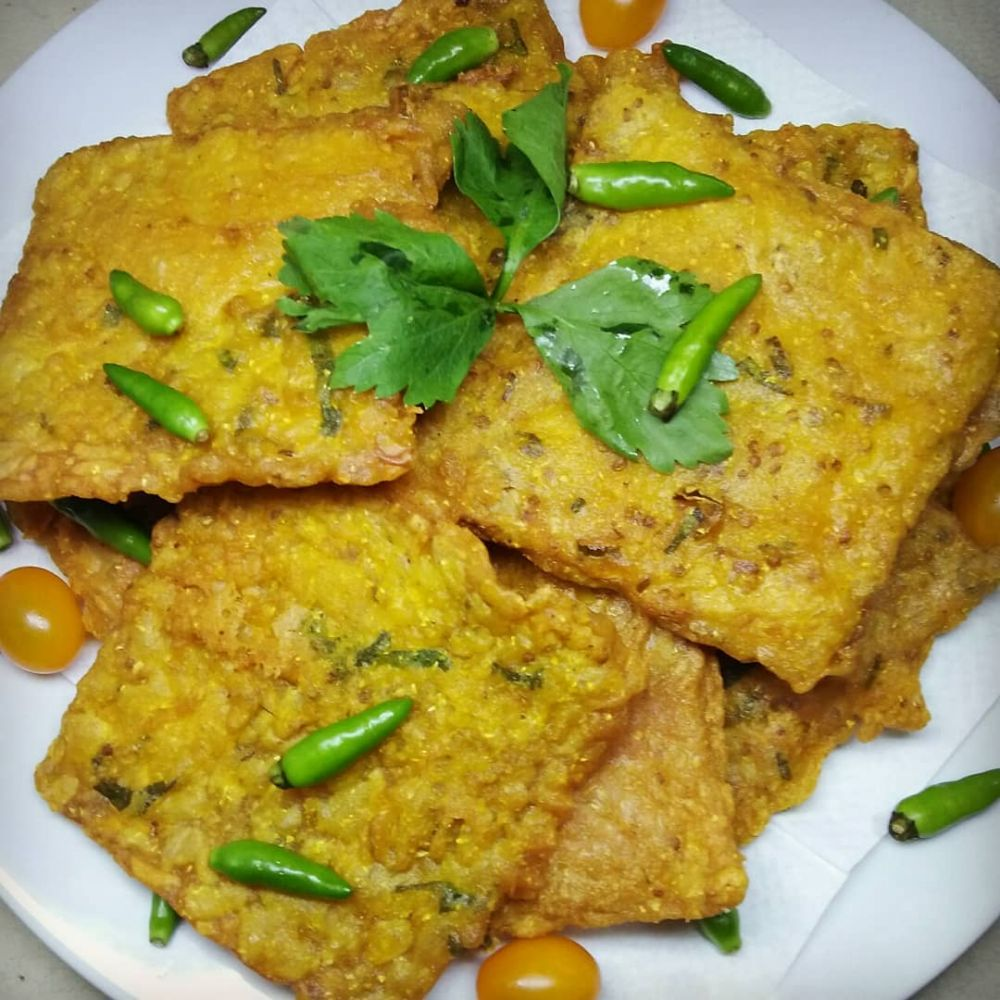Tempe: (27, 509, 620, 979), (453, 173, 999, 622), (11, 111, 492, 500)
